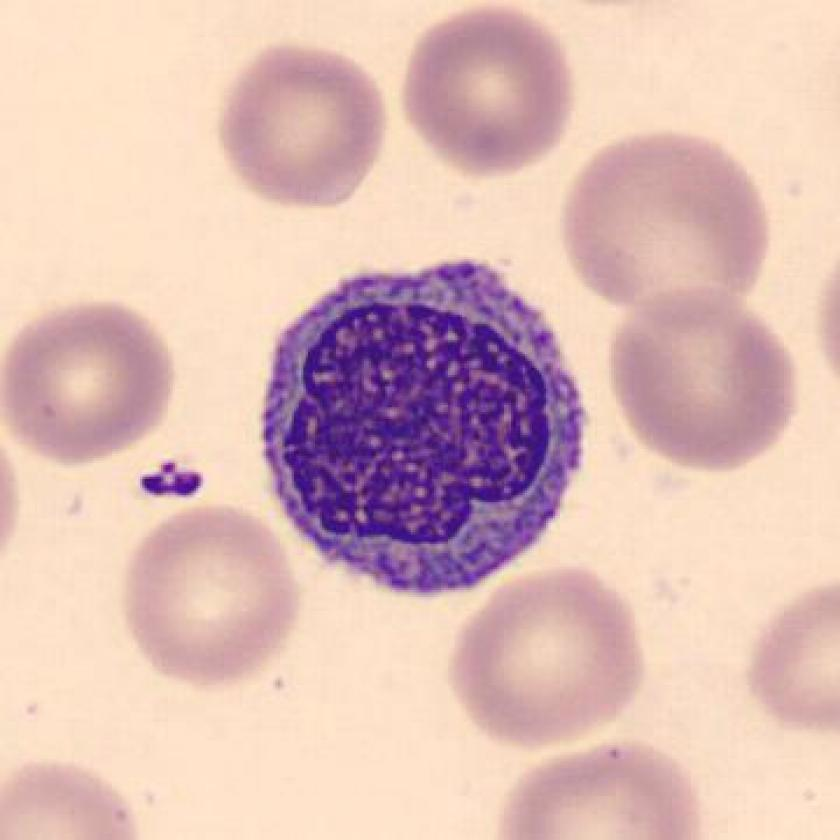monocyte: (244, 246, 608, 621)
